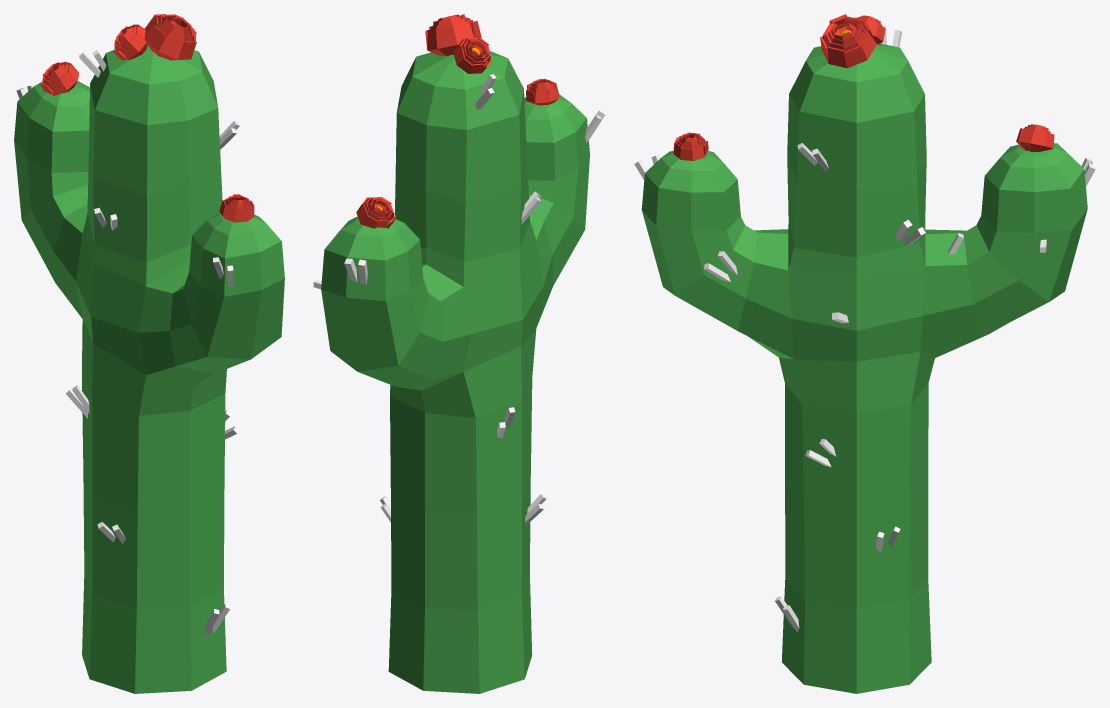
The model's file is cactus.glb.
3 views of the same model, side by side, from view 1: azimuth 30°, elevation 25°; view 2: azimuth 150°, elevation 25°; view 3: azimuth 270°, elevation 25° (orthographic).
Visible parts, largest first — view 1: Cactus_Circle.014; view 2: Cactus_Circle.014; view 3: Cactus_Circle.014.
Boxes of the visible parts, x1,y1,x2,y2 form: Cactus_Circle.014: [14, 14, 284, 693]; Cactus_Circle.014: [313, 14, 605, 693]; Cactus_Circle.014: [634, 14, 1095, 693].
Bounding box in the file's own units: 2.38 × 10.02 × 6.47.
